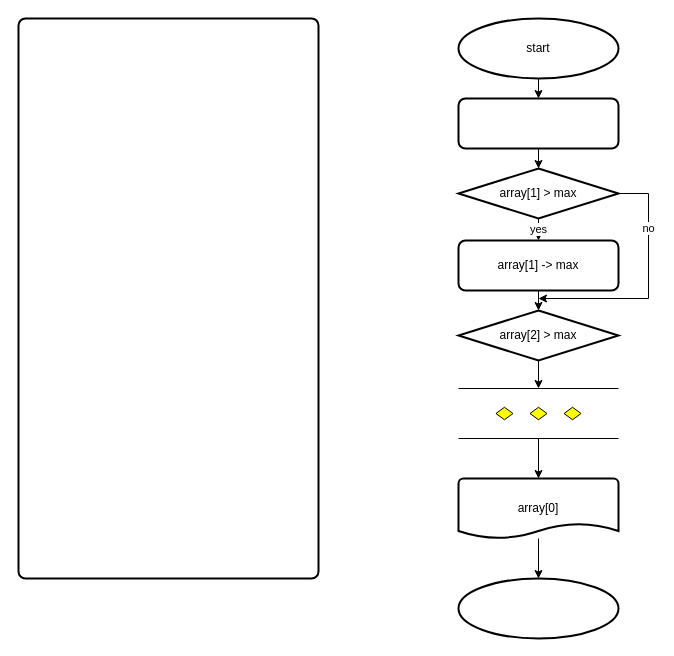
Image size: 674x656. Some labels were removed from this diagram. Here are the shapes that lost their labels. From the top down, the centre of each, then its label:
At point (538, 123): "array[0] -> max".
At point (538, 608): "end".
